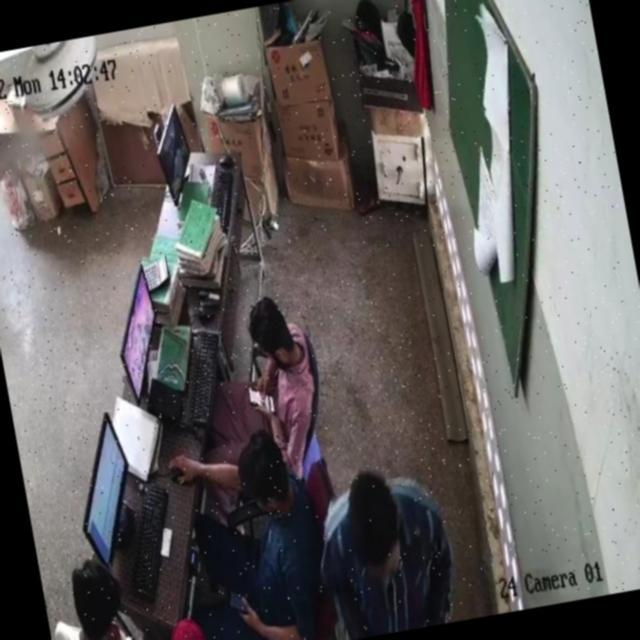person: (194, 442, 329, 640), (317, 460, 460, 640), (196, 308, 325, 478), (47, 559, 147, 640), (35, 544, 79, 640), (158, 615, 260, 640)
